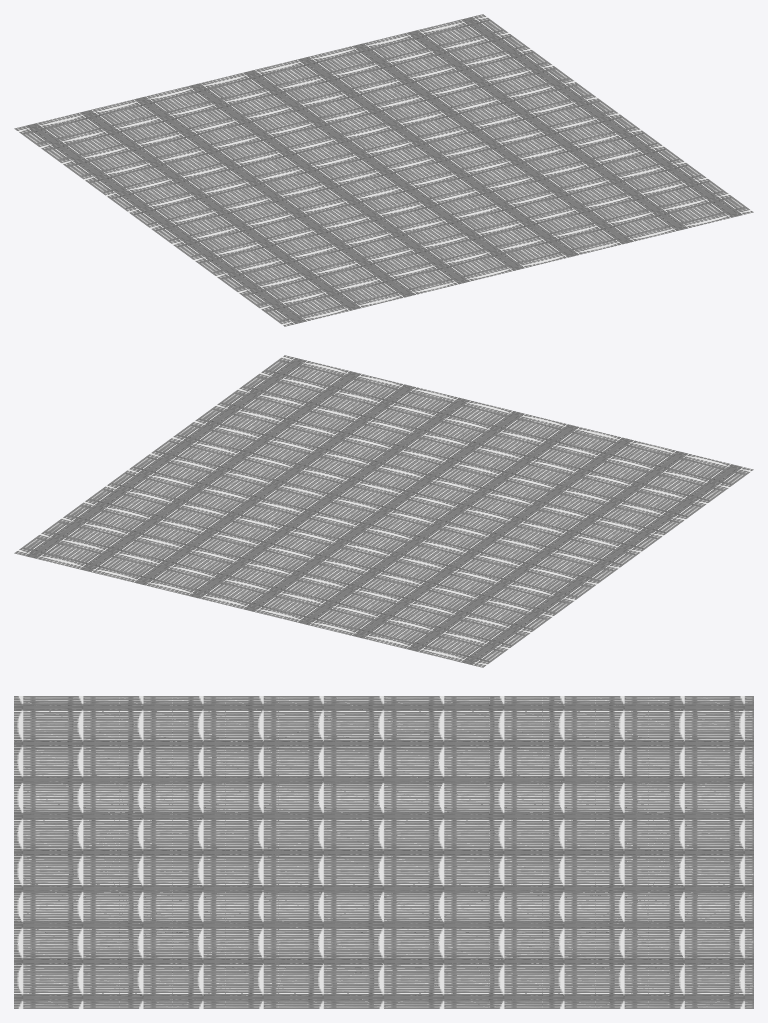
3 views of the same model, one above another, from view 1: azimuth 30°, elevation 25°; view 2: azimuth 150°, elevation 25°; view 3: azimuth 270°, elevation 25° (orthographic). The views are drawn at different scales.
Visible parts, largest first — view 1: root; view 2: root; view 3: root.
Boxes of the visible parts, x1,y1,x2,y2 form: root: (14,14,753,326); root: (14,355,753,667); root: (14,696,753,1008).
Bounding box in the file's own units: 13.12 × 8.04e-16 × 13.12.
1 material, 1 textured.
